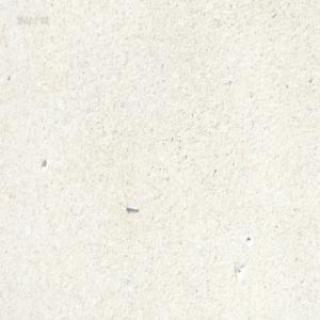Nailtrack_idkeyframe: (122, 202, 138, 212)
